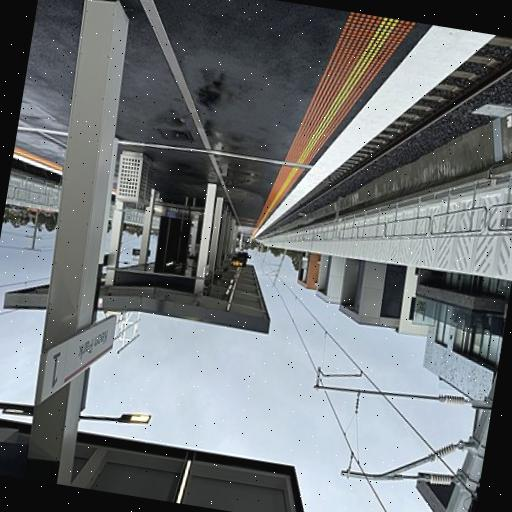platform_edge: (251, 16, 492, 244)
